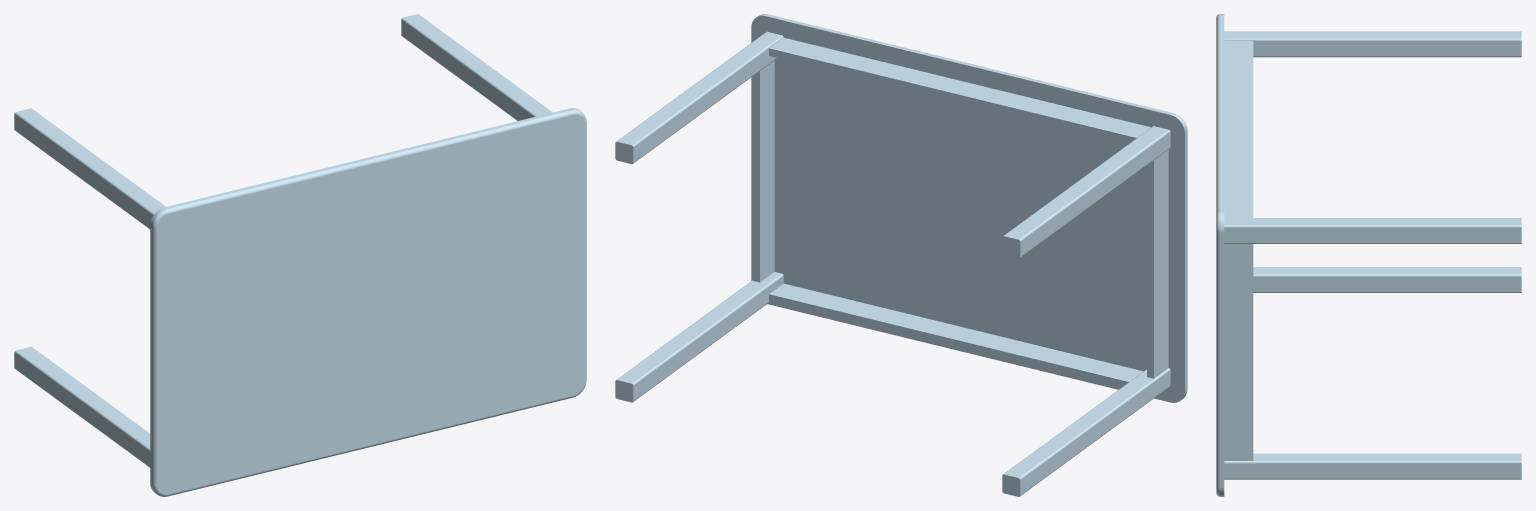
Rendered from Table.gltf.
The picture shows the model from 3 angles, left to right: view 1: azimuth 30°, elevation 25°; view 2: azimuth 150°, elevation 25°; view 3: azimuth 270°, elevation 25°; orthographic projection.
Parts seen in each view (by area): view 1: mesh10_meshnode_10, mesh35_meshnode_35, mesh19_meshnode_19, mesh11_meshnode_11, mesh20_meshnode_20, mesh23_meshnode_23, mesh4_meshnode_4, mesh1_meshnode_1, mesh38_meshnode_38, mesh34_meshnode_34, mesh9_meshnode_9, mesh6_meshnode_6 (+1 smaller); view 2: mesh5_meshnode_5, mesh0_meshnode_0, mesh39_meshnode_39, mesh46_meshnode_46, mesh48_meshnode_48, mesh43_meshnode_43, mesh41_meshnode_41, mesh47_meshnode_47, mesh11_meshnode_11, mesh19_meshnode_19, mesh2_meshnode_2, mesh20_meshnode_20 (+11 smaller); view 3: mesh42_meshnode_42, mesh39_meshnode_39, mesh16_meshnode_16, mesh24_meshnode_24, mesh12_meshnode_12, mesh21_meshnode_21, mesh20_meshnode_20, mesh23_meshnode_23, mesh1_meshnode_1, mesh3_meshnode_3, mesh31_meshnode_31, mesh8_meshnode_8 (+9 smaller).
Part boxes in pixels (x1,y1,x2,y2): mesh10_meshnode_10: (158, 115, 584, 494); mesh35_meshnode_35: (167, 110, 573, 213); mesh19_meshnode_19: (14, 114, 152, 228); mesh11_meshnode_11: (14, 353, 150, 466); mesh20_meshnode_20: (16, 108, 164, 213); mesh23_meshnode_23: (403, 14, 551, 115); mesh4_meshnode_4: (401, 20, 533, 120); mesh1_meshnode_1: (16, 347, 150, 447); mesh38_meshnode_38: (152, 227, 157, 485); mesh34_meshnode_34: (168, 395, 573, 496); mesh9_meshnode_9: (165, 108, 570, 208); mesh6_meshnode_6: (150, 226, 152, 484); mesh5_meshnode_5: (774, 58, 1146, 371); mesh0_meshnode_0: (751, 15, 1184, 402); mesh39_meshnode_39: (769, 37, 1150, 137); mesh46_meshnode_46: (769, 283, 1143, 381); mesh48_meshnode_48: (1154, 149, 1168, 378); mesh43_meshnode_43: (760, 60, 774, 282); mesh41_meshnode_41: (769, 48, 1136, 143); mesh47_meshnode_47: (769, 294, 1128, 387); mesh11_meshnode_11: (1020, 370, 1170, 494); mesh19_meshnode_19: (1020, 132, 1170, 256); mesh2_meshnode_2: (633, 276, 783, 400); mesh20_meshnode_20: (1004, 126, 1168, 239); mesh42_meshnode_42: (1224, 244, 1253, 460); mesh39_meshnode_39: (1224, 41, 1253, 217); mesh16_meshnode_16: (1224, 463, 1521, 478); mesh24_meshnode_24: (1224, 228, 1521, 242); mesh12_meshnode_12: (1253, 277, 1521, 291); mesh21_meshnode_21: (1253, 41, 1521, 55); mesh20_meshnode_20: (1224, 31, 1521, 38); mesh23_meshnode_23: (1224, 218, 1521, 224); mesh1_meshnode_1: (1253, 267, 1521, 273); mesh3_meshnode_3: (1253, 454, 1521, 460); mesh31_meshnode_31: (1216, 232, 1220, 487); mesh8_meshnode_8: (1220, 233, 1224, 487).
Bounding box in the file's own units: 1.2 × 0.76 × 0.74.
